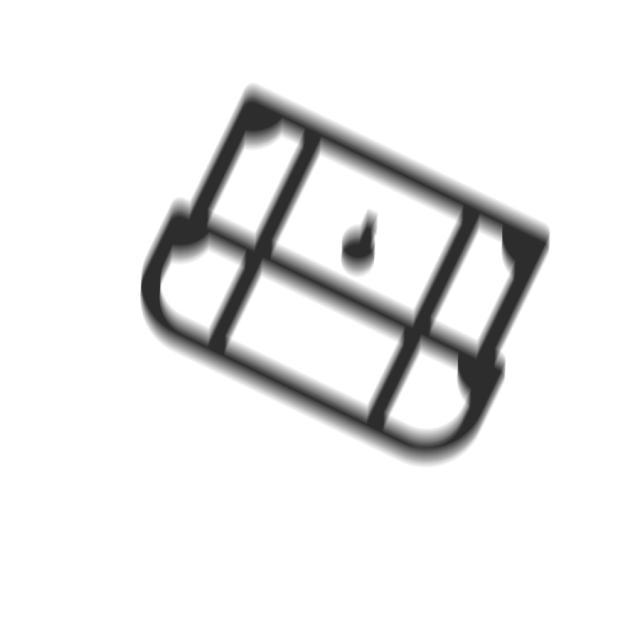treasure_box: (131, 80, 560, 476)
